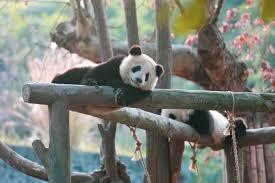bear: (52, 46, 164, 107), (169, 108, 248, 149)
